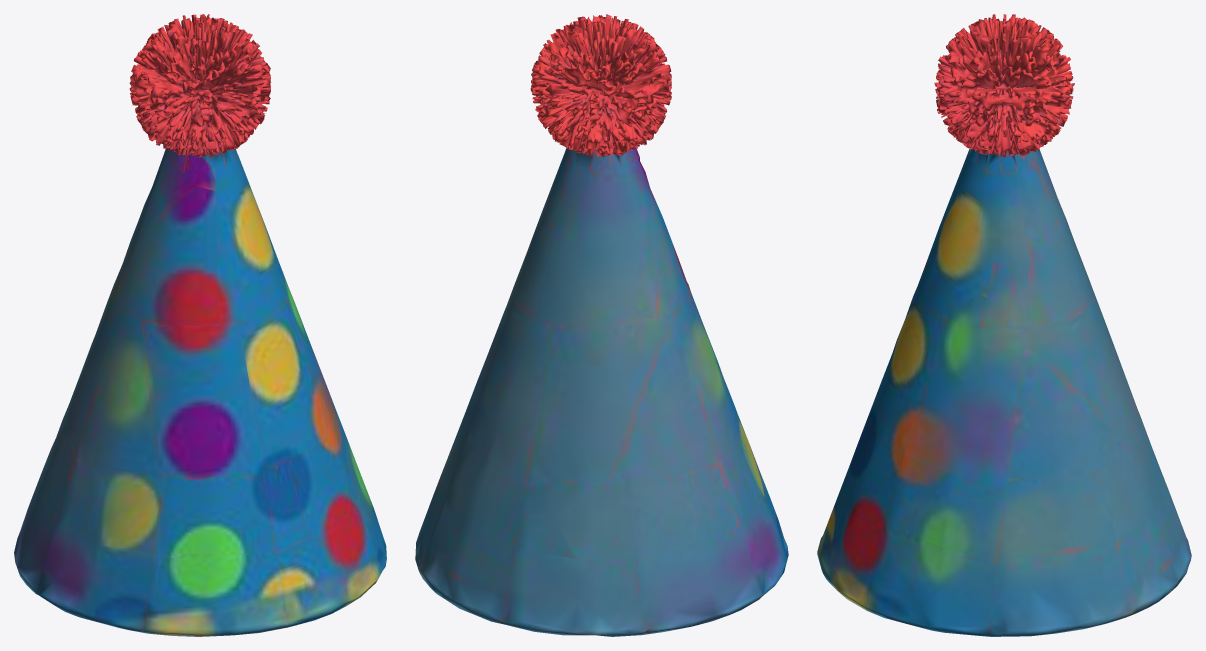
The picture shows the model from 3 angles, left to right: view 1: azimuth 30°, elevation 25°; view 2: azimuth 150°, elevation 25°; view 3: azimuth 270°, elevation 25°; orthographic projection.
Bounding box in the file's own units: 1.19 × 1.9 × 1.19.
Materials: 1 (1 with a texture image).
